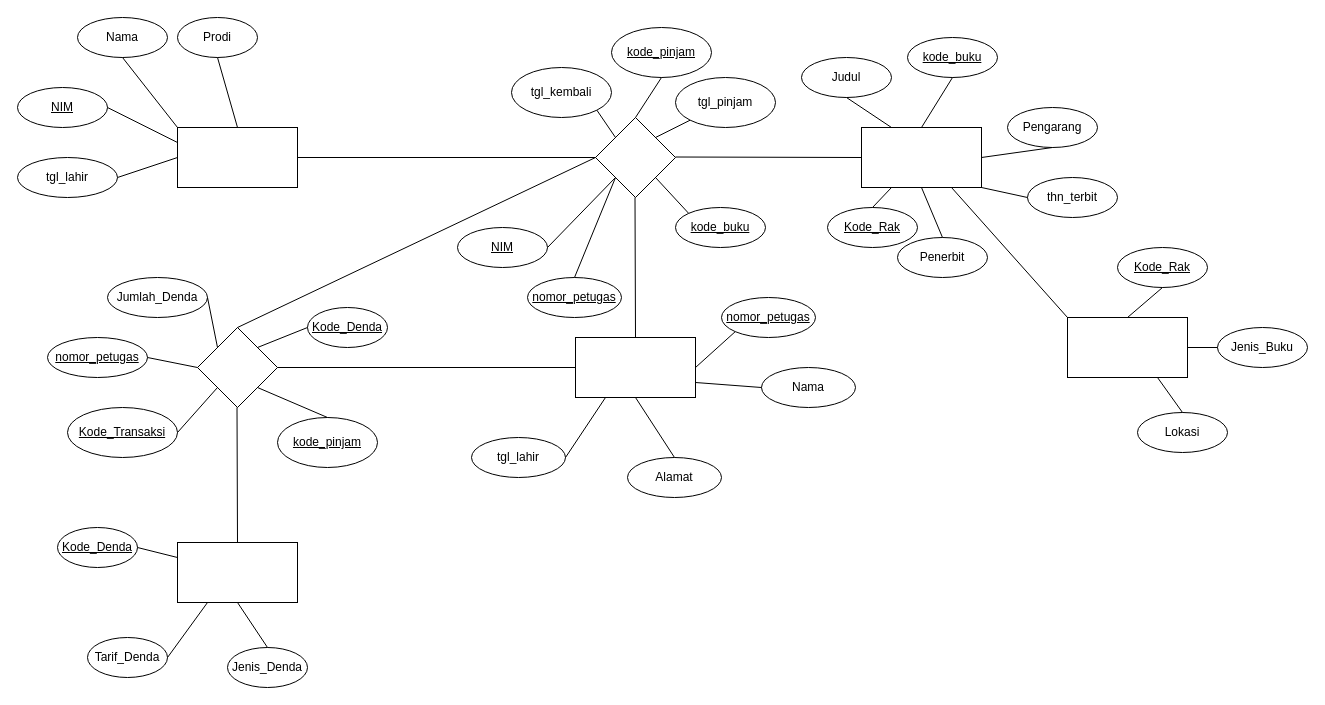
This 1325x705 diagram has some shape labels left out. Each missing label, with the centre of its shape:
Buku: point (921, 157)
Denda: point (237, 572)
Mahasiswa: point (237, 157)
Membayar: point (237, 367)
Petugas: point (635, 367)
Pinjam: point (635, 157)
Rak_Buku: point (1127, 347)
